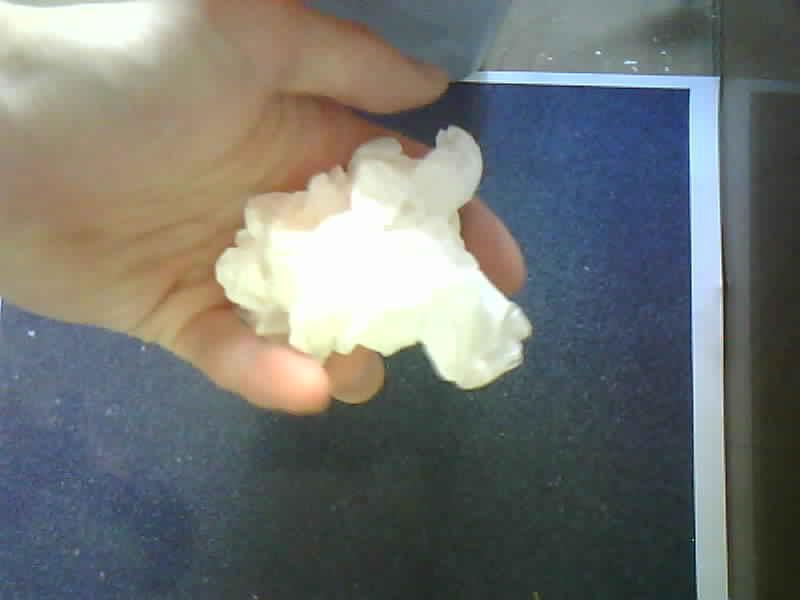paper: (217, 127, 531, 389), (315, 230, 322, 234)
